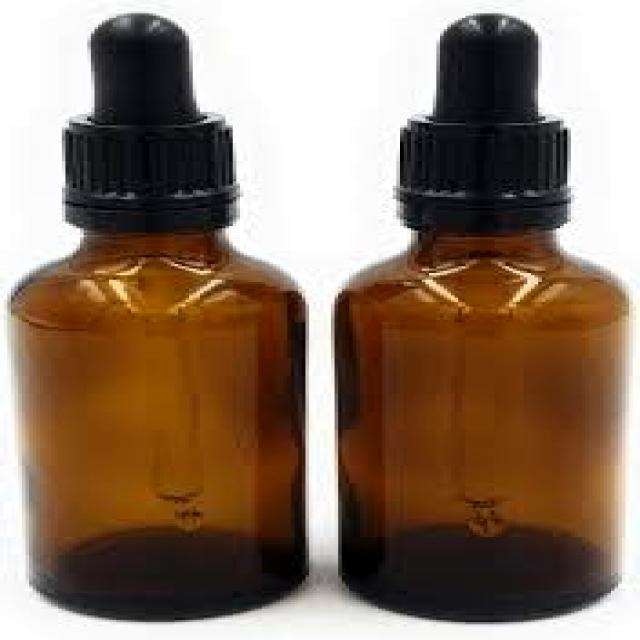Glass: (0, 110, 322, 633), (328, 111, 637, 632)
